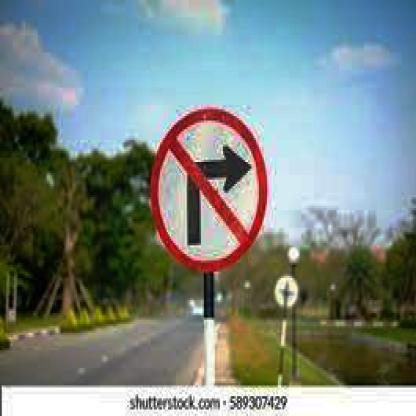No right turn: (148, 108, 272, 282)
